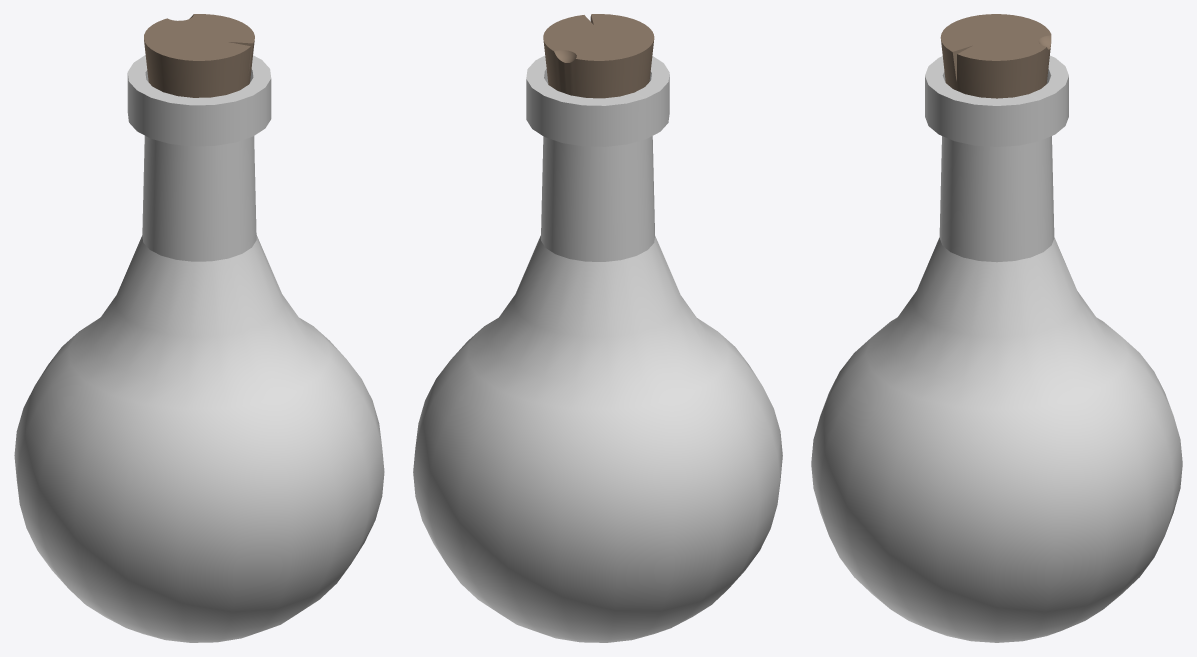
File: Pink Potion.fbx
3 renders of one model, left to right at view 1: azimuth 30°, elevation 25°; view 2: azimuth 150°, elevation 25°; view 3: azimuth 270°, elevation 25°, orthographic.
Visible parts, largest first — view 1: pSphere2, polySurface3; view 2: pSphere2, polySurface3; view 3: pSphere2, polySurface3.
Boxes of the visible parts, x1,y1,x2,y2 form: pSphere2: (14,55,384,642); polySurface3: (144,14,254,97); pSphere2: (413,55,782,642); polySurface3: (543,14,654,98); pSphere2: (811,55,1182,642); polySurface3: (940,14,1051,98).
Size of the model in its own units: 2 by 3.49 by 2.
